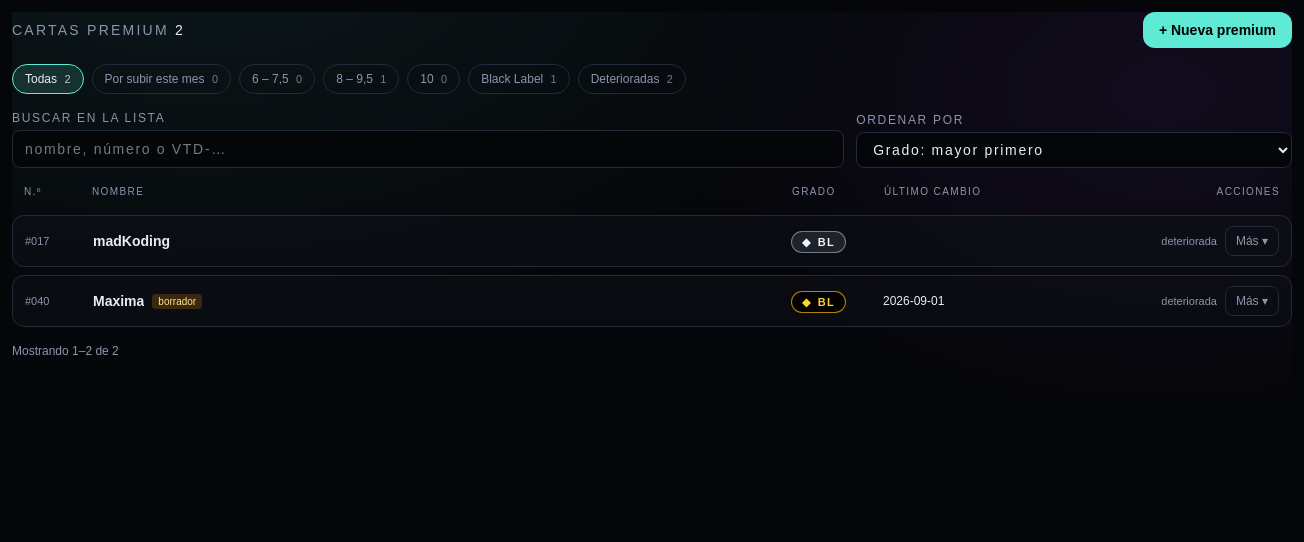
PremiumManager › el alta está cerrada mientras haya cartas, y se abre con «+ Nueva premium»
The width and height of the screenshot is (1304, 542).
Click the button "+ Nueva premium": (1217, 30) [1143,12,1292,48]
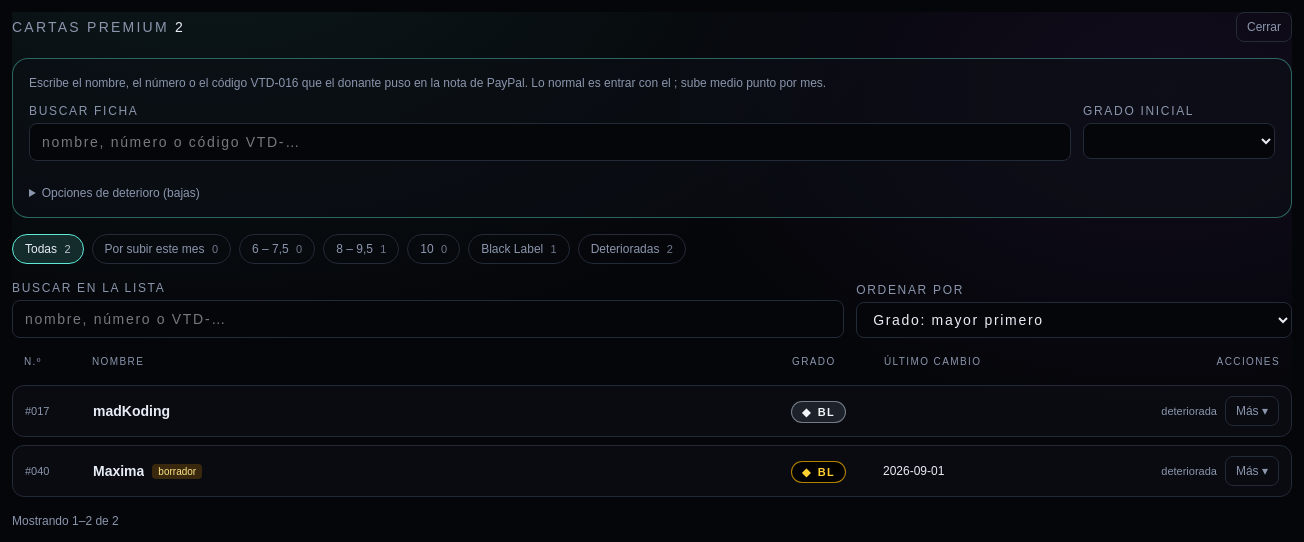
Expected: the element with test id "premium-alta" is shown, [12,58,1292,218]
Click the button "Cerrar": (1264, 27) [1236,12,1292,42]
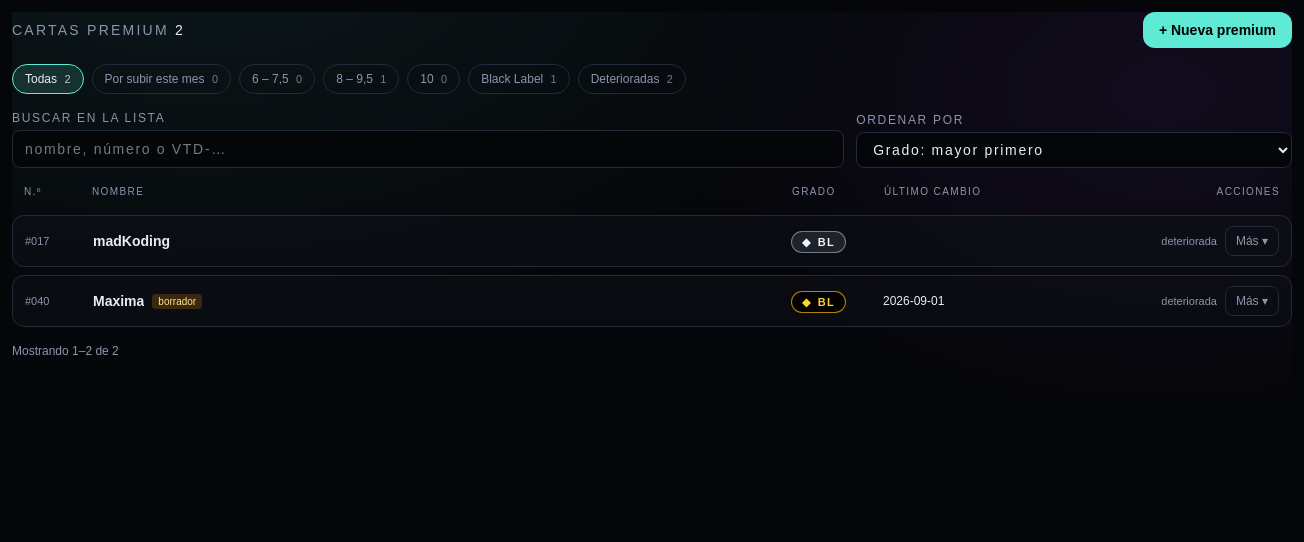
Expected: the element with test id "premium-alta" is gone
